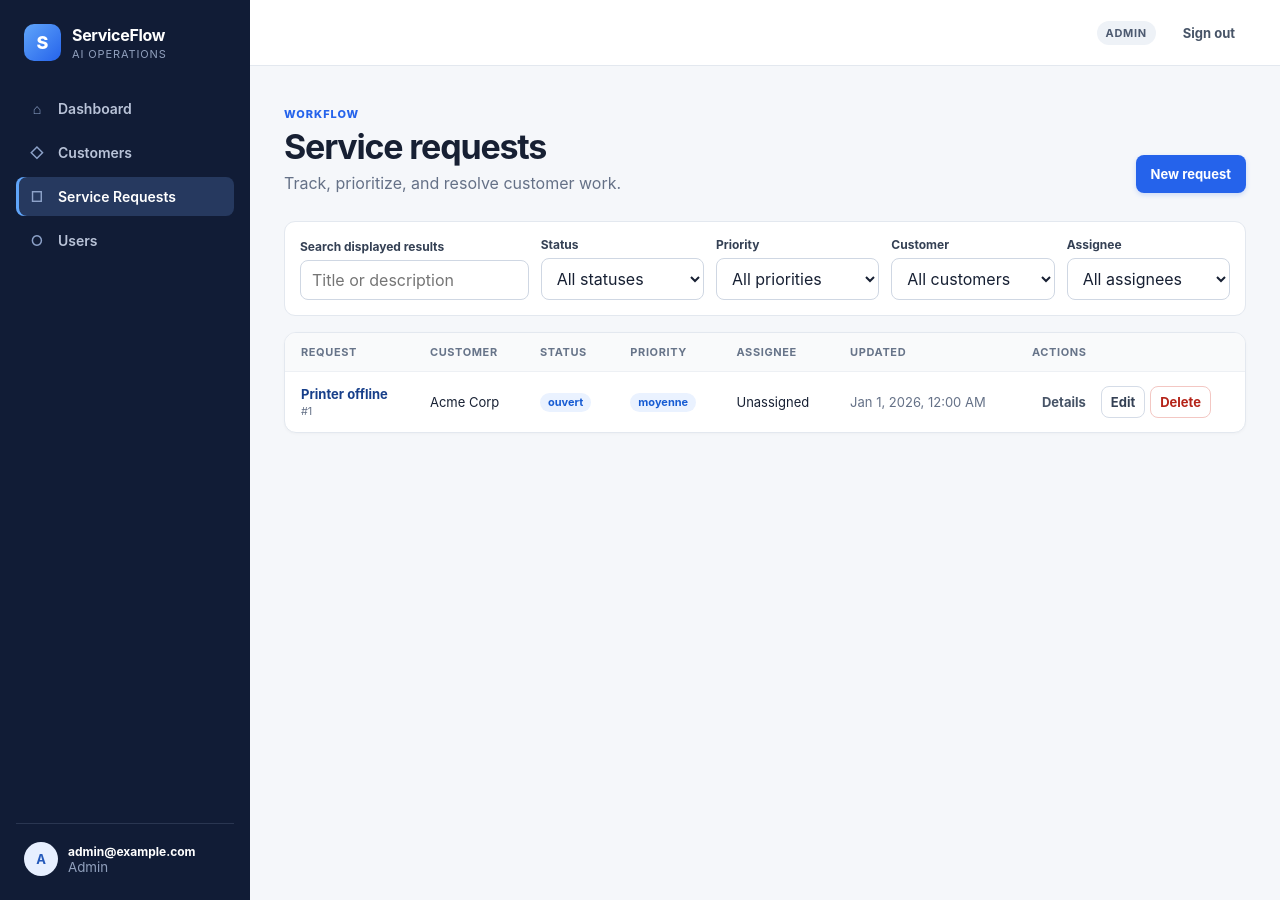
Test: AI suggestion actions › shows a retryable error for other generation failures
Click the button "Printer offline" at (344, 394), box [301, 386, 388, 402]
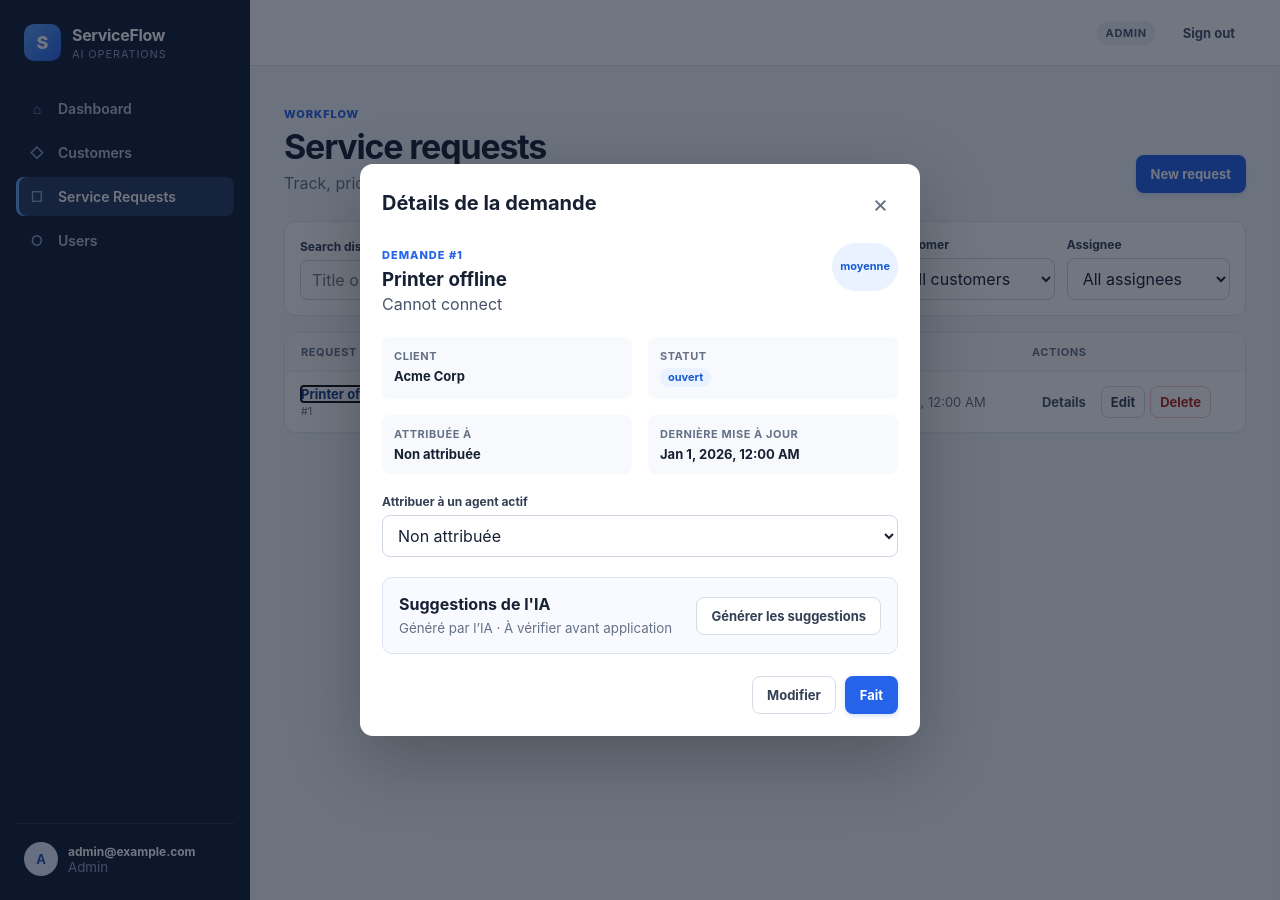
Click the button "Générer les suggestions" at (789, 616), box [696, 597, 881, 635]
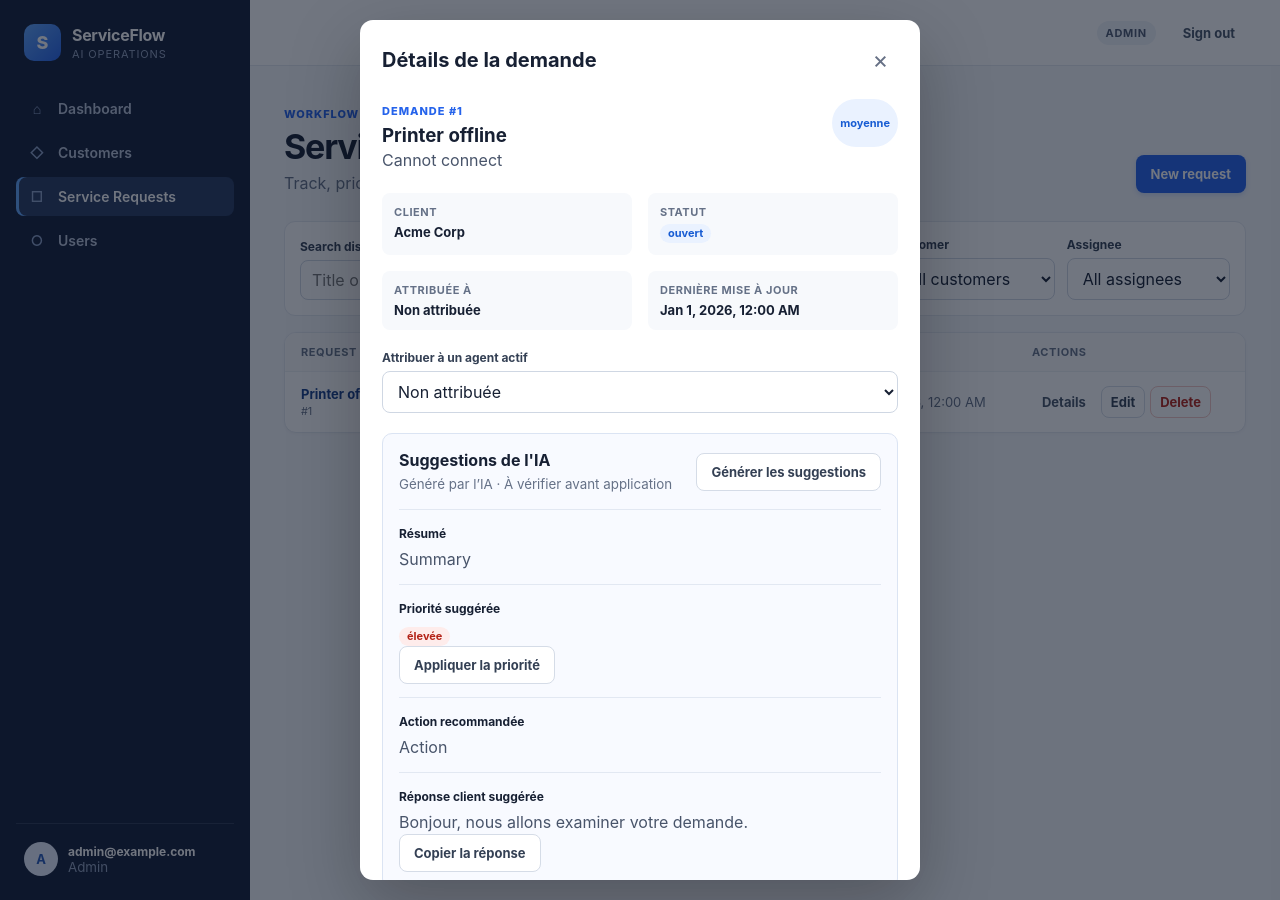
Expected: the text "Bonjour, nous allons examiner votre demande." is shown, [399, 812, 748, 832]
Click the button "Générer les suggestions" at (789, 472), box [696, 453, 881, 491]
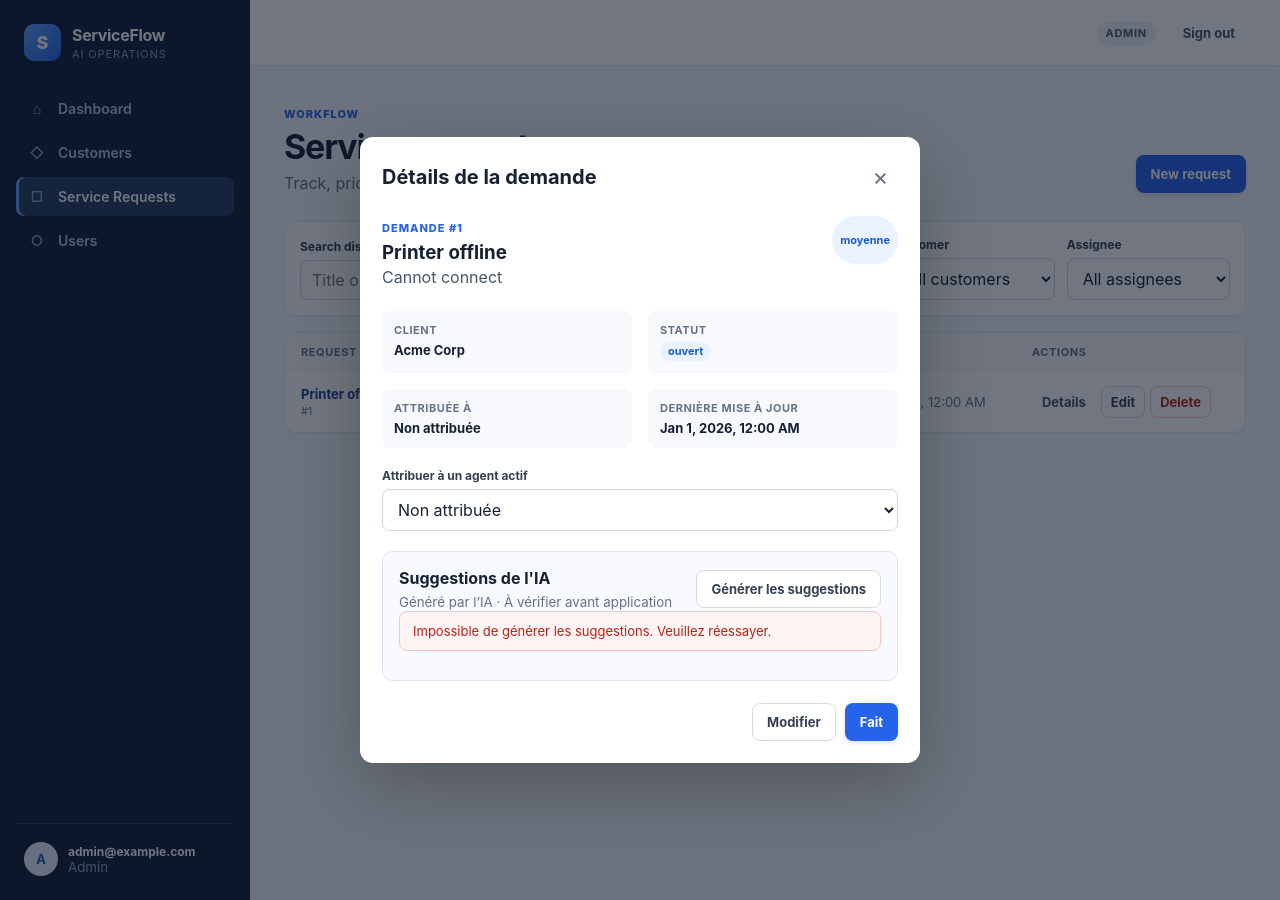
Expected: the button "Générer les suggestions" is enabled, [696, 570, 881, 608]
Expected: the message shows "Impossible de générer les suggestions", [413, 623, 771, 639]
Expected: the text "Bonjour, nous allons examiner votre demande." is gone
